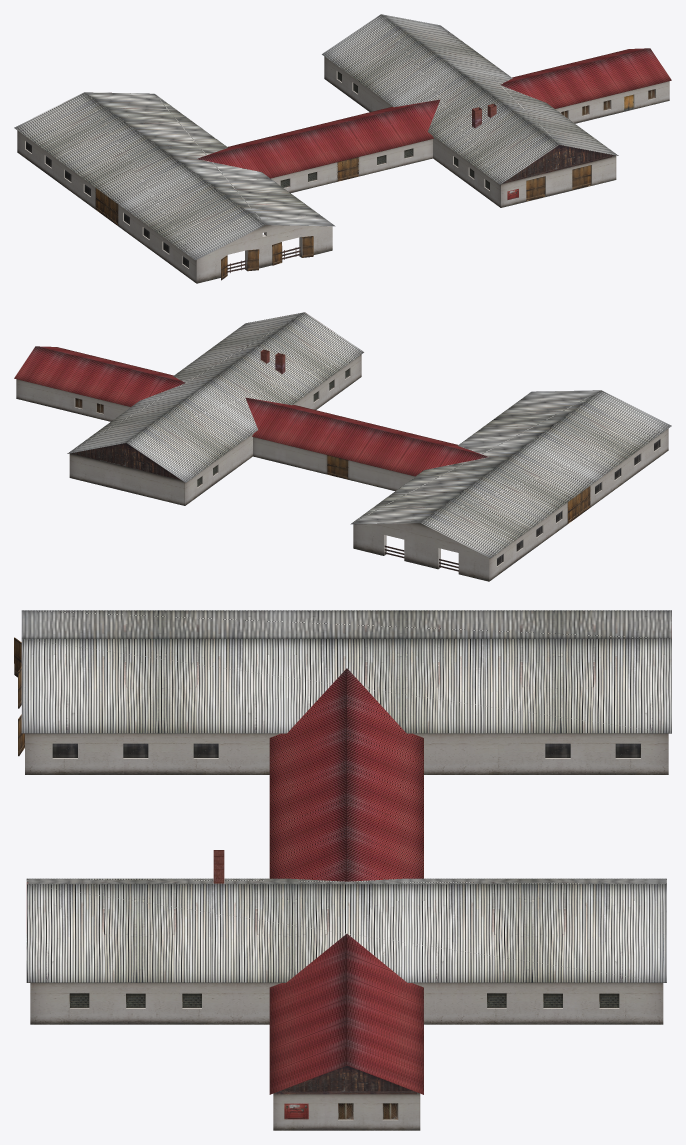
File: r402_ravnec_angar5_korovniki.FBX
3 renders of one model, top to bottom at view 1: azimuth 30°, elevation 25°; view 2: azimuth 150°, elevation 25°; view 3: azimuth 270°, elevation 25°, orthographic. The views are drawn at different scales.
Parts seen in each view (by area): view 1: r402_ravnec_angar5_korovniki; view 2: r402_ravnec_angar5_korovniki; view 3: r402_ravnec_angar5_korovniki.
Boxes of the visible parts, x1,y1,x2,y2 form: r402_ravnec_angar5_korovniki: (14,14,671,283); r402_ravnec_angar5_korovniki: (14,312,671,581); r402_ravnec_angar5_korovniki: (14,610,671,1130).
Size of the model in its own units: 8034 by 4677 by 752.
